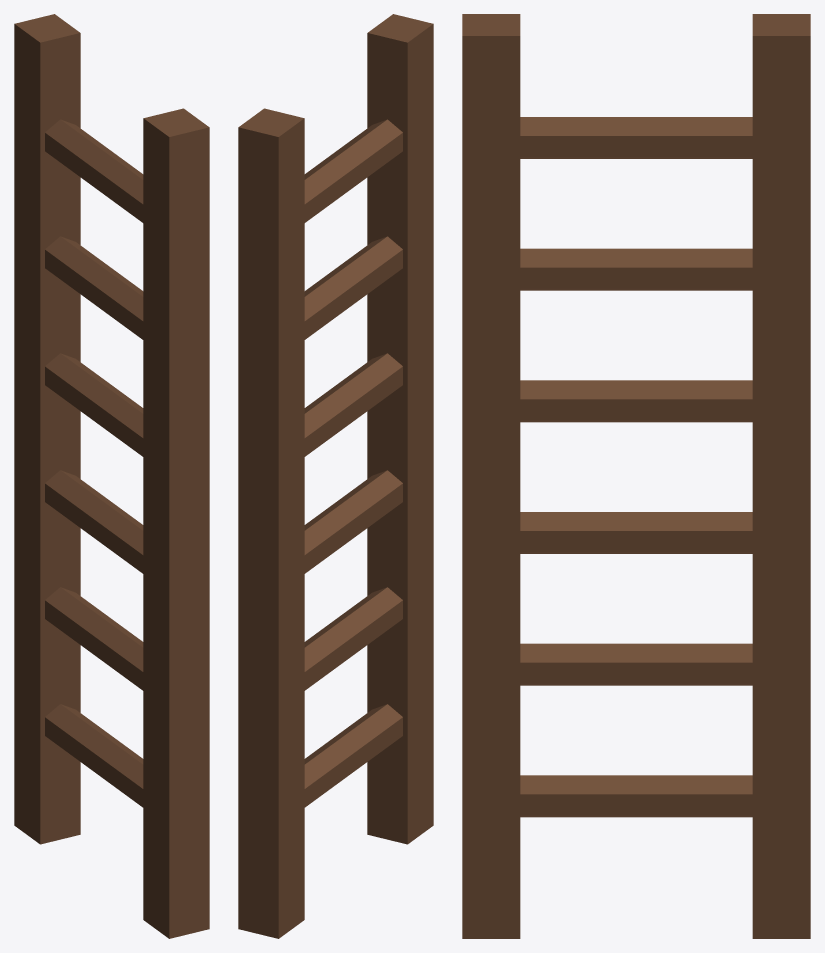
The model's file is Tangga.fbx.
3 views of the same model, side by side, from view 1: azimuth 30°, elevation 25°; view 2: azimuth 150°, elevation 25°; view 3: azimuth 270°, elevation 25° (orthographic). The views are drawn at different scales.
Parts seen in each view (by area): view 1: Cube; view 2: Cube; view 3: Cube.
Boxes of the visible parts, x1,y1,x2,y2 form: Cube: [14, 14, 209, 938]; Cube: [238, 14, 433, 938]; Cube: [462, 14, 810, 938].
Bounding box in the file's own units: 17.19 × 327 × 115.
